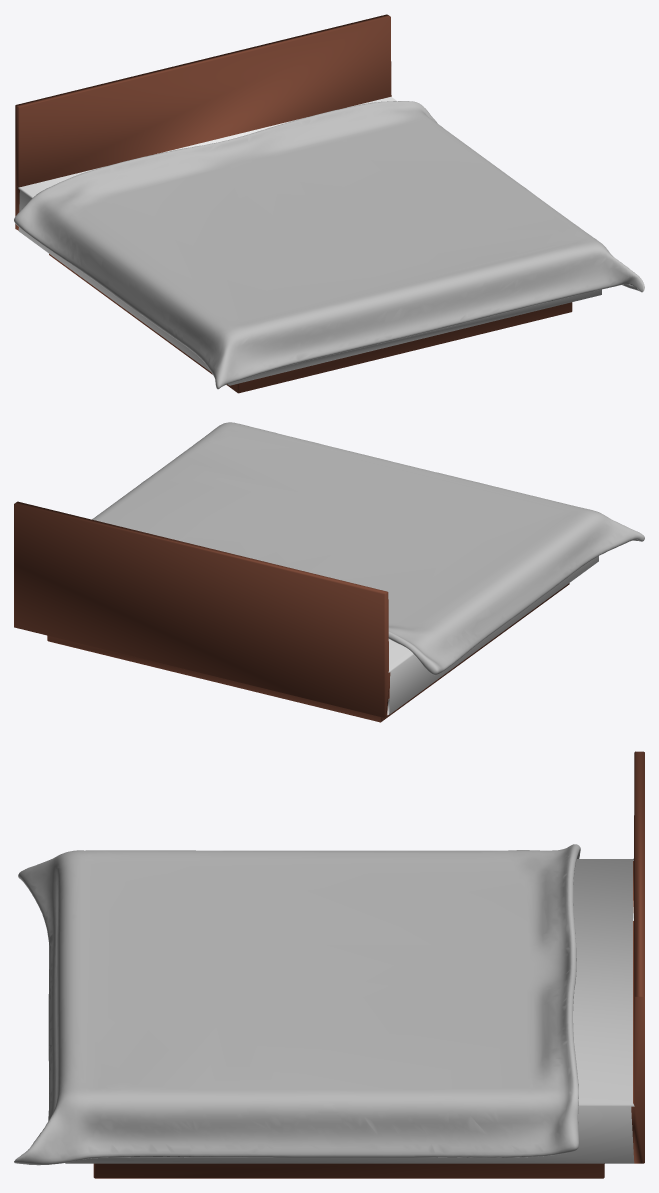
File: bed.glb
The picture shows the model from 3 angles, top to bottom: view 1: azimuth 30°, elevation 25°; view 2: azimuth 150°, elevation 25°; view 3: azimuth 270°, elevation 25°; orthographic projection. The views are drawn at different scales.
Visible parts, largest first — view 1: sheet, Cube.004; view 2: sheet, Cube.004; view 3: sheet, Cube.004.
Part boxes in pixels (x1,y1,x2,y2): sheet: [14, 101, 644, 389]; Cube.004: [15, 14, 601, 393]; sheet: [92, 422, 644, 675]; Cube.004: [14, 501, 598, 722]; sheet: [14, 844, 580, 1165]; Cube.004: [65, 751, 644, 1178].
Size of the model in its own units: 3.01 by 0.9732 by 2.85.
